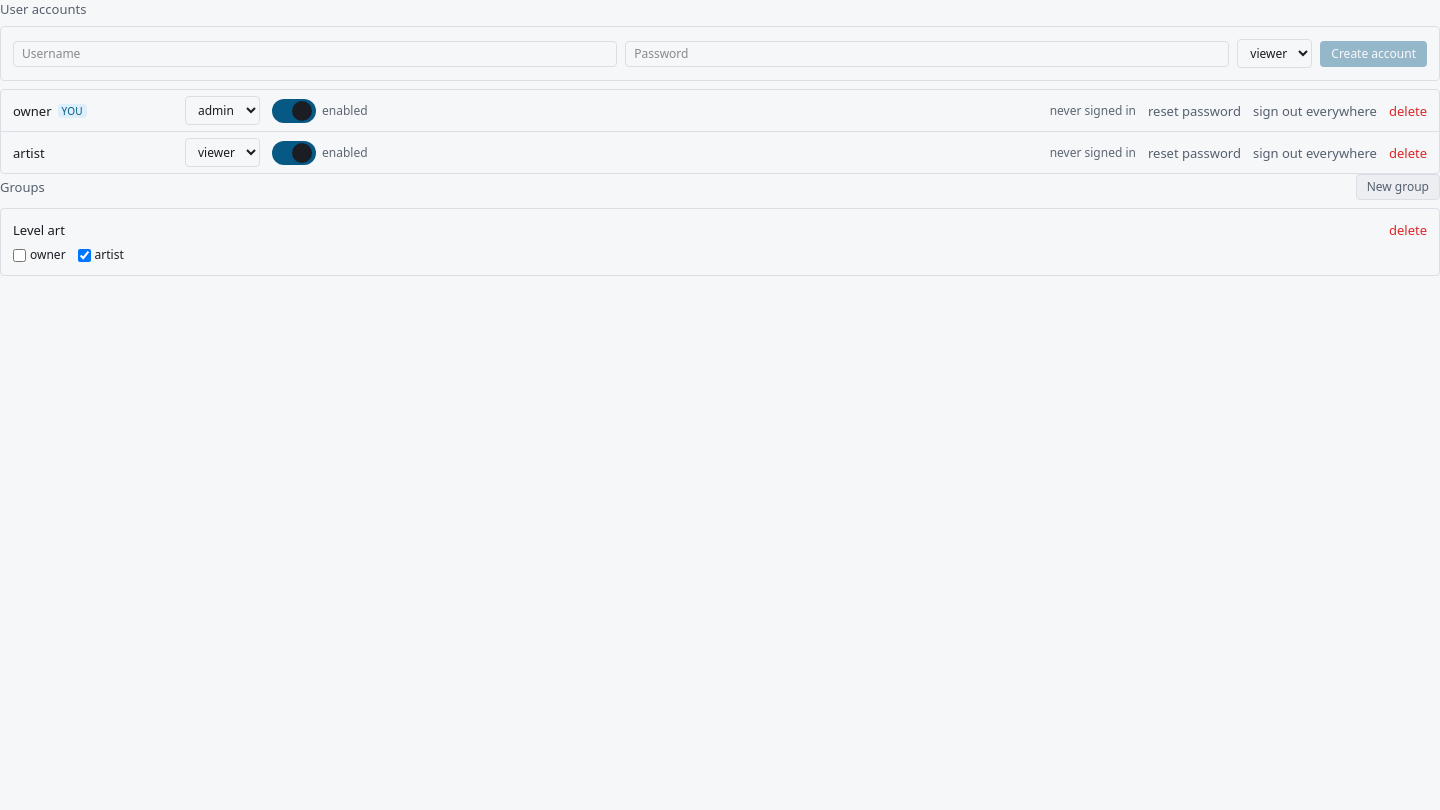
Scenario: deleting an account is confirmed, and a server conflict stays visible on the pane
Expected: the text titled "owner" is shown, [13,102,52,120]
Click the button "delete" in the row of "you".
click(1408, 111)  # box [1389,102,1427,120]
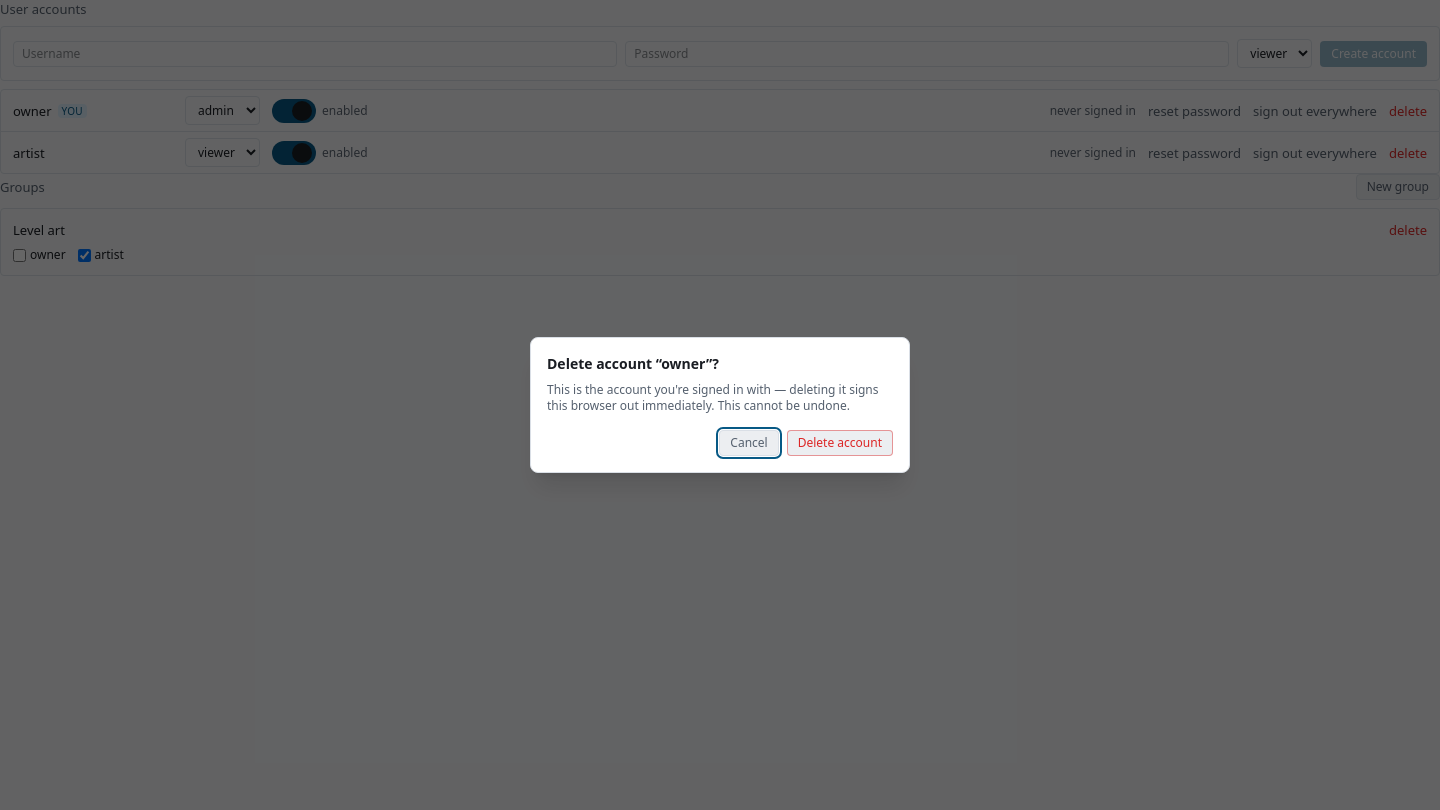
Click the button "Cancel".
click(749, 443)  # box [719,430,779,456]
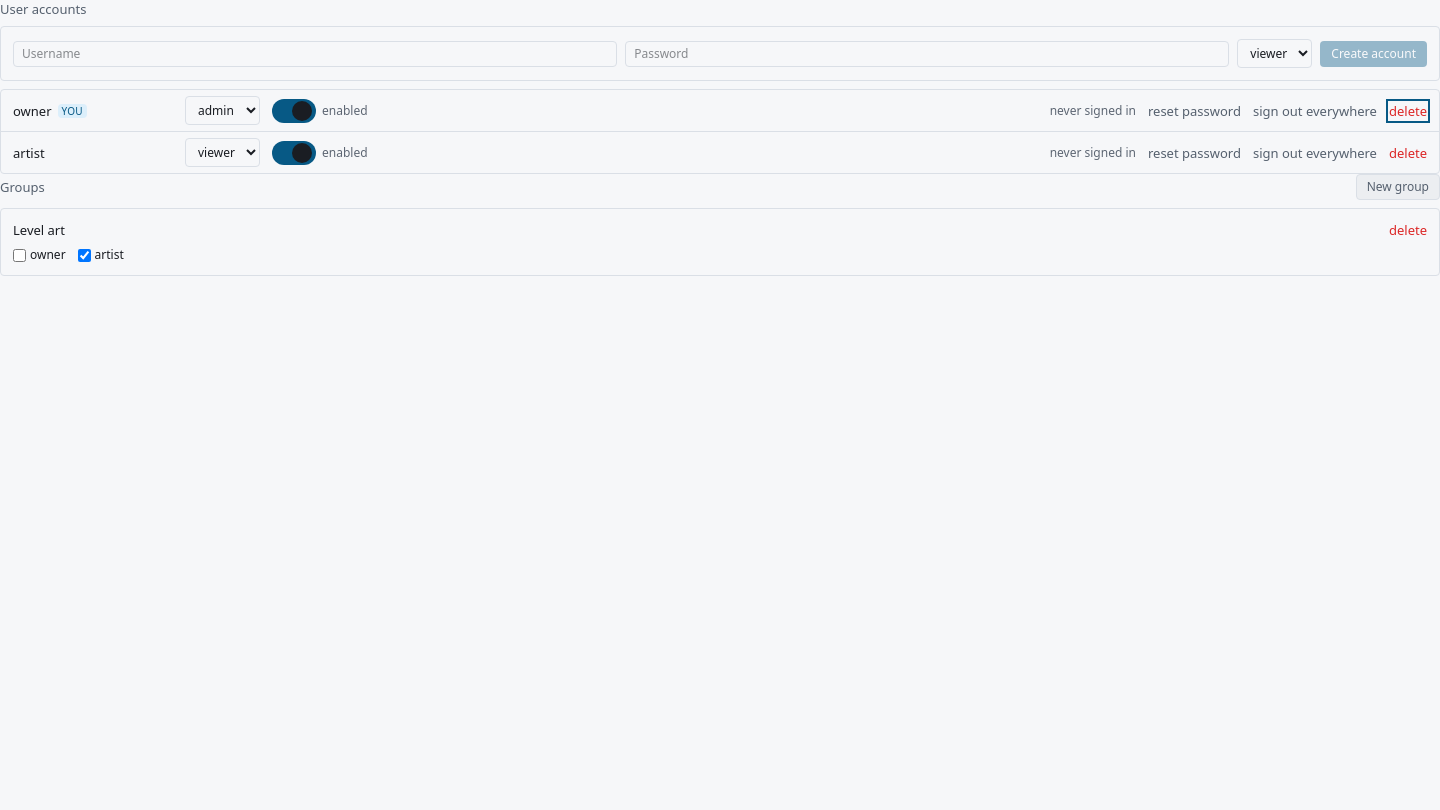
Click the button "delete" in the row of "you".
click(1408, 111)  # box [1389,102,1427,120]
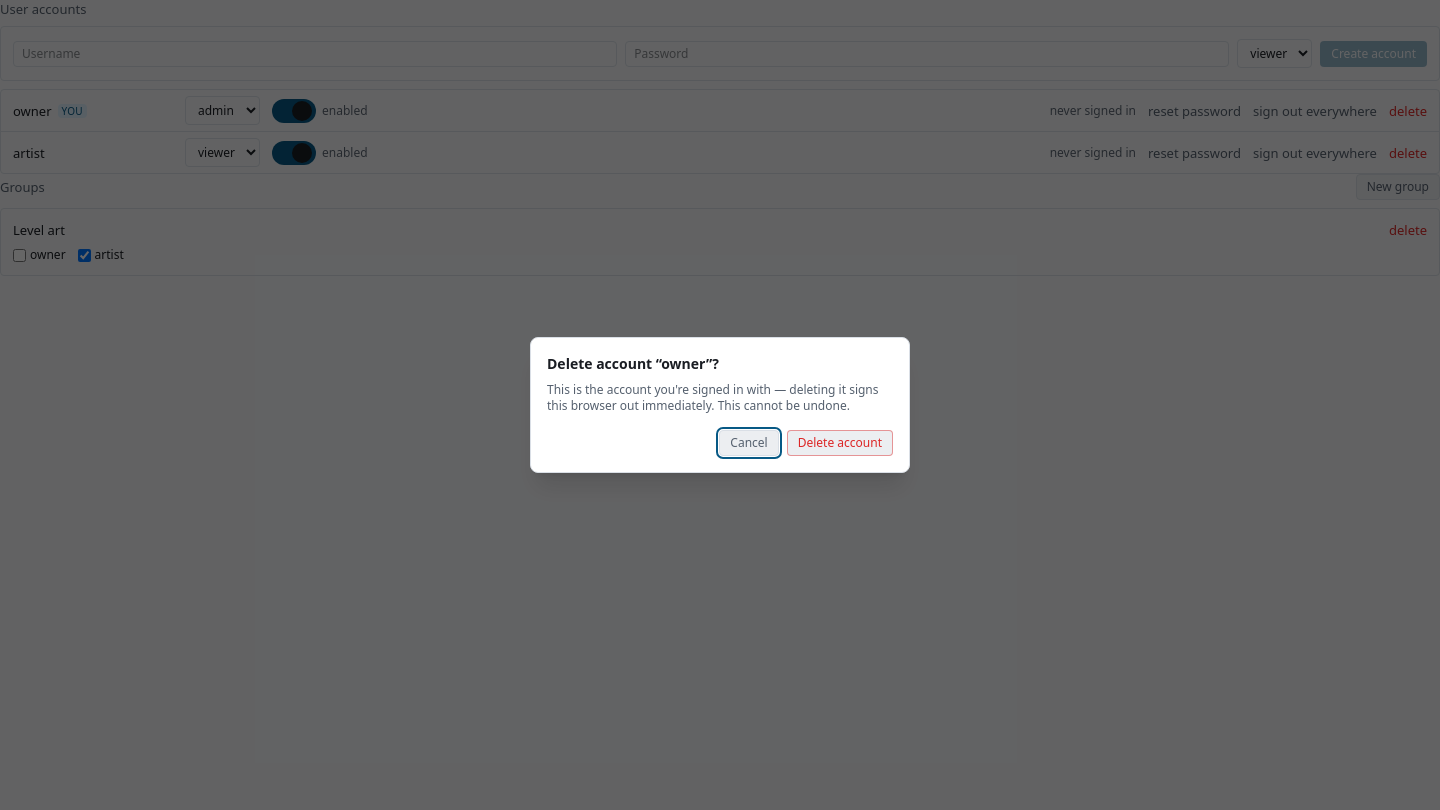
Click the button "Delete account".
click(840, 443)  # box [787,430,893,456]
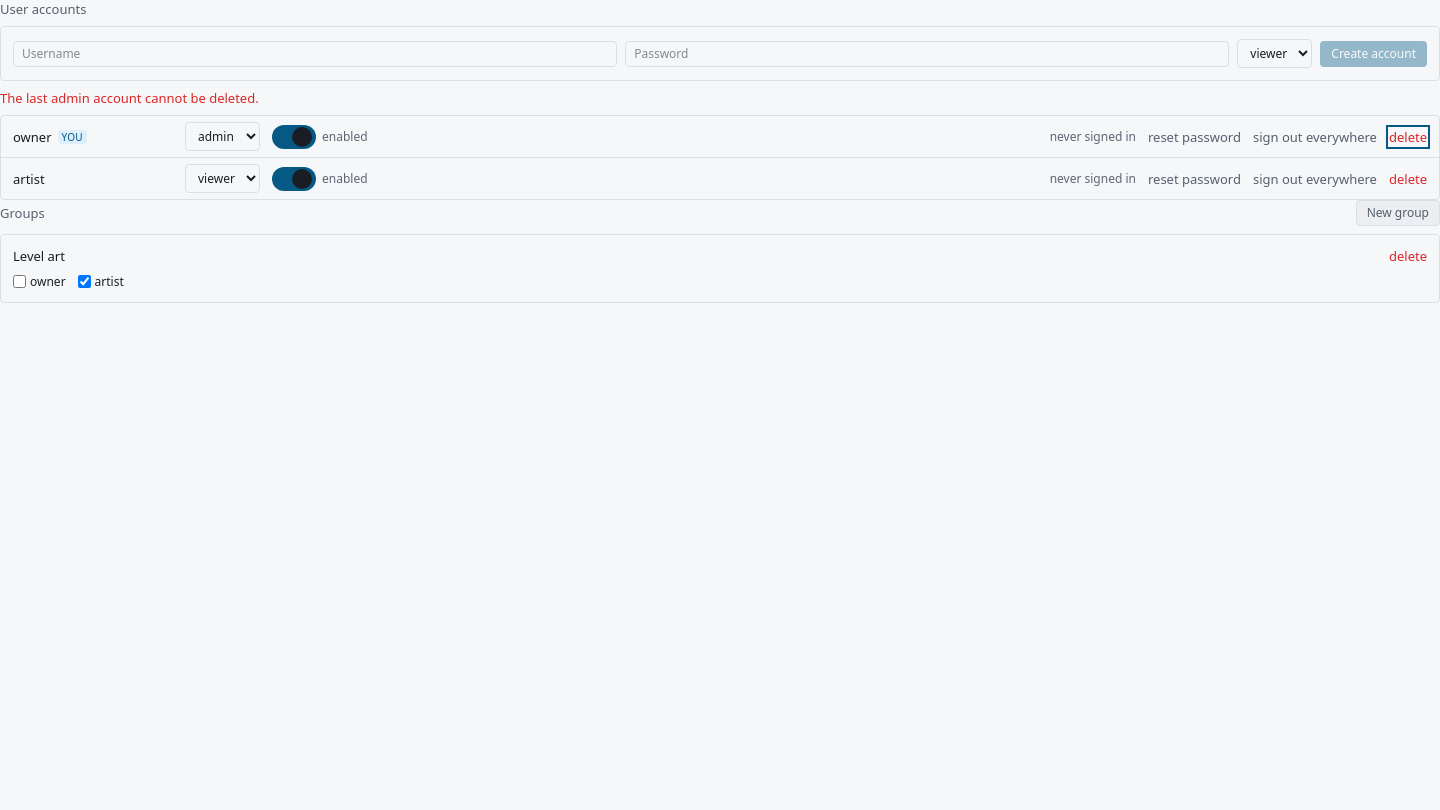
Now the text "The last admin account cannot be deleted." is shown, box [0,89,259,107]
